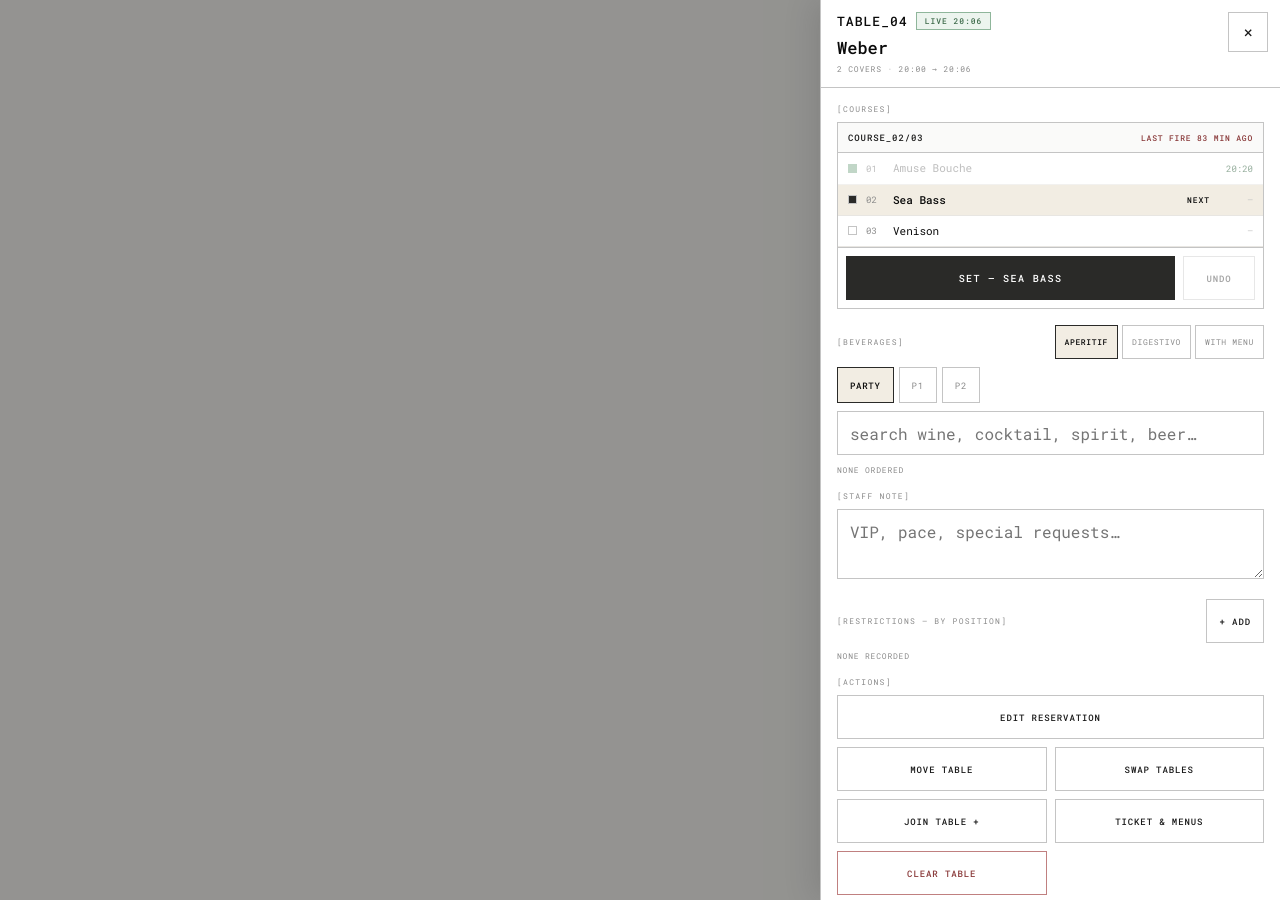
Test: TableSheet — beverages, per seat › says which seat is empty rather than a generic nothing
Step 1. Click the button named "Drinks for position 2" → (961, 385), box [942,367,980,403]
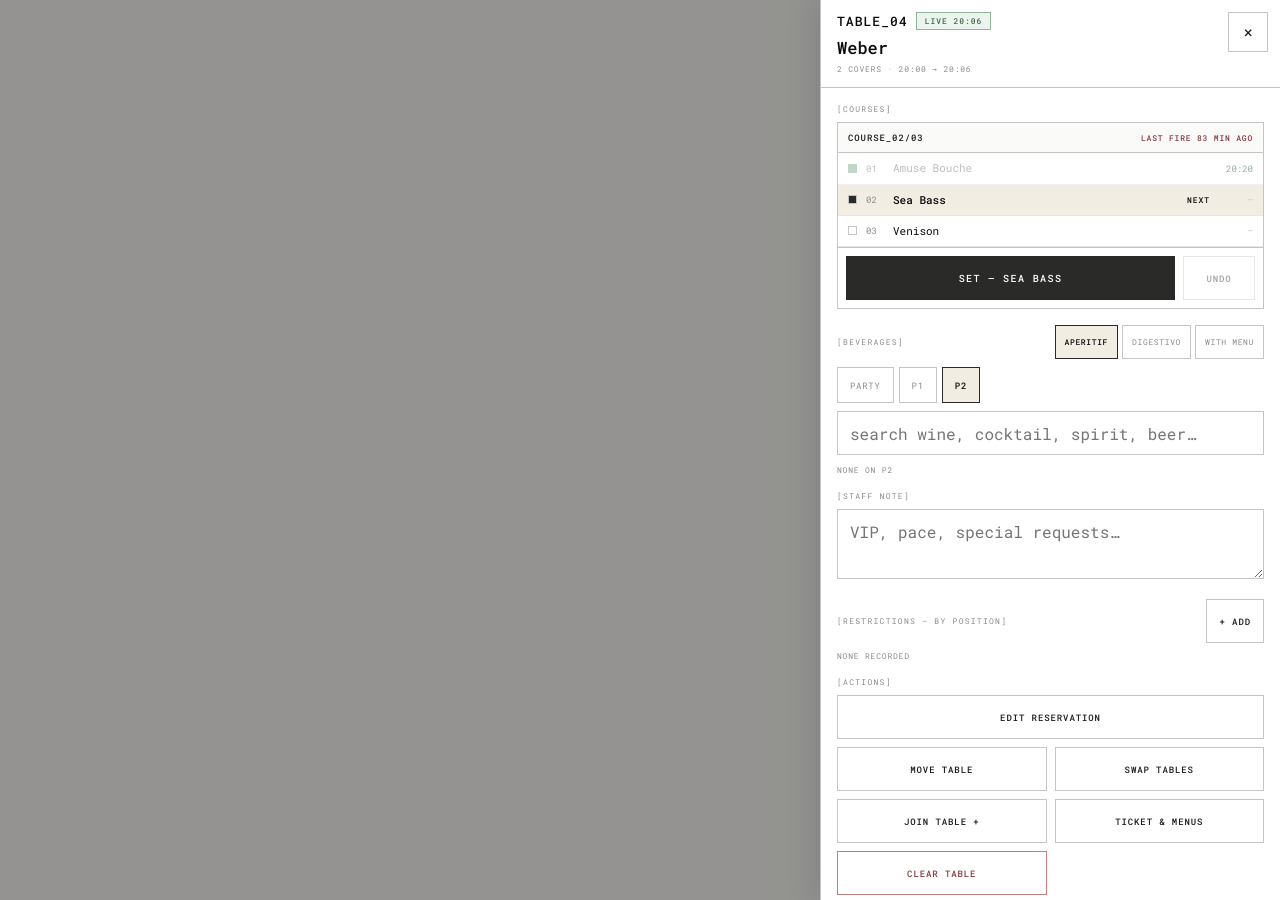
Now the text "NONE ON P2" is shown, box [837,465,893,475]
